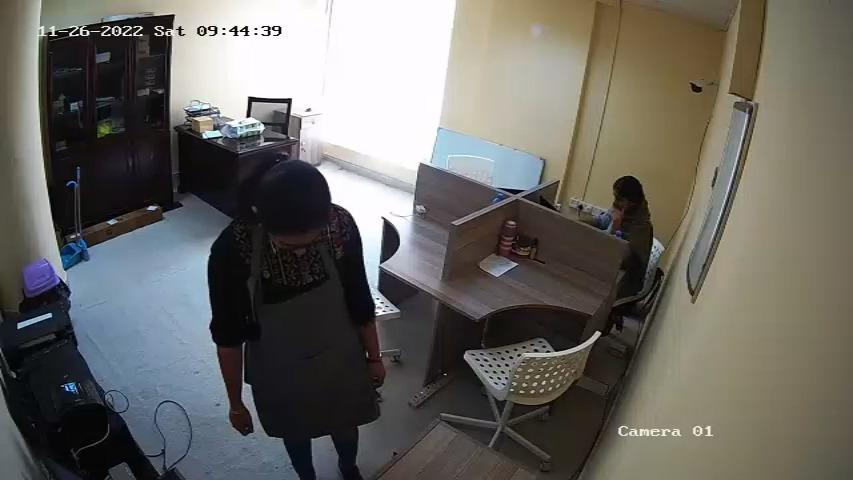apron: (242, 254, 351, 403)
